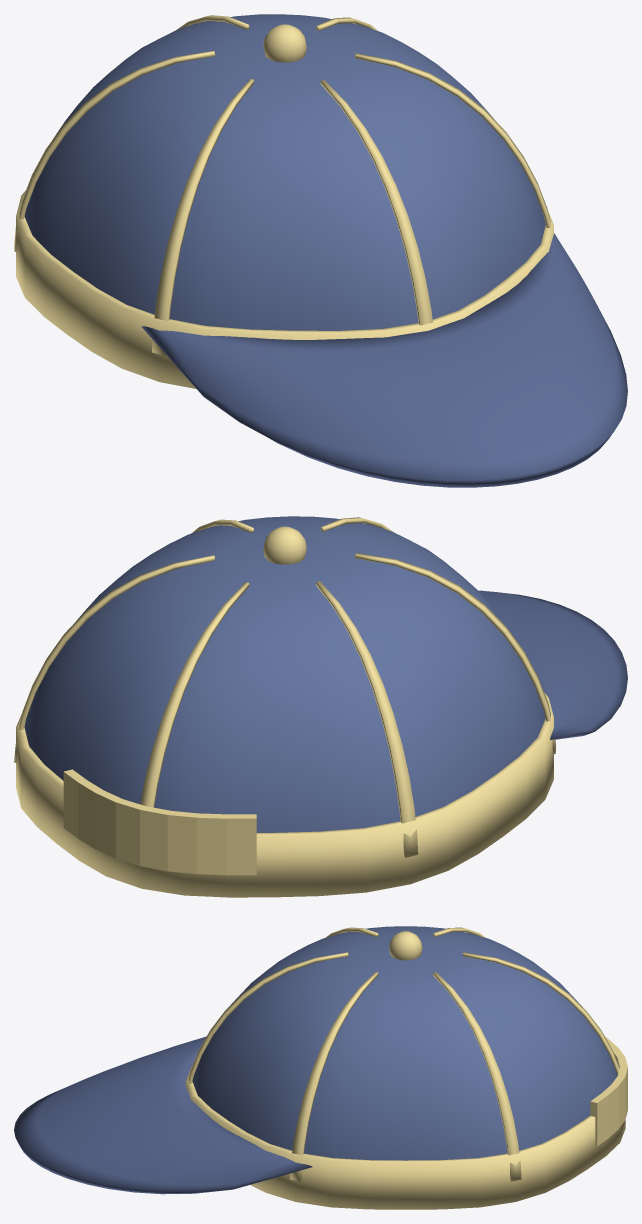
File: baseball_cap.glb
3 renders of one model, top to bottom at view 1: azimuth 30°, elevation 25°; view 2: azimuth 150°, elevation 25°; view 3: azimuth 270°, elevation 25°, orthographic. The views are drawn at different scales.
Parts seen in each view (by area): view 1: Crown, Peak, Sweatband, Seams, Button; view 2: Crown, Sweatband, Strap, Peak, Seams, Button; view 3: Crown, Peak, Sweatband, Seams, Strap, Button.
Part boxes in pixels (<box>): Crown: <box>24,14,545,330</box>; Peak: <box>141,233,627,487</box>; Sweatband: <box>16,190,553,388</box>; Seams: <box>14,15,550,355</box>; Button: <box>263,24,306,62</box>; Crown: <box>24,516,545,832</box>; Sweatband: <box>16,693,553,897</box>; Strap: <box>63,769,256,875</box>; Peak: <box>478,590,627,739</box>; Seams: <box>14,517,556,857</box>; Button: <box>263,526,306,564</box>; Crown: <box>192,926,617,1160</box>; Peak: <box>14,1036,312,1194</box>; Sweatband: <box>185,1066,625,1209</box>; Seams: <box>188,927,619,1181</box>; Strap: <box>590,1037,627,1146</box>; Button: <box>389,931,422,960</box>.
Size of the model in its own units: 0.194 by 0.1142 by 0.3088.
